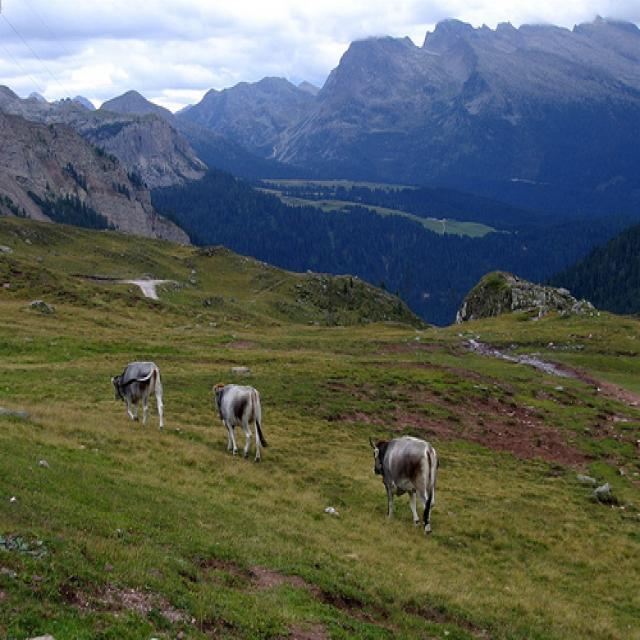cow: (368, 430, 436, 531), (211, 381, 268, 461), (109, 359, 161, 429)
